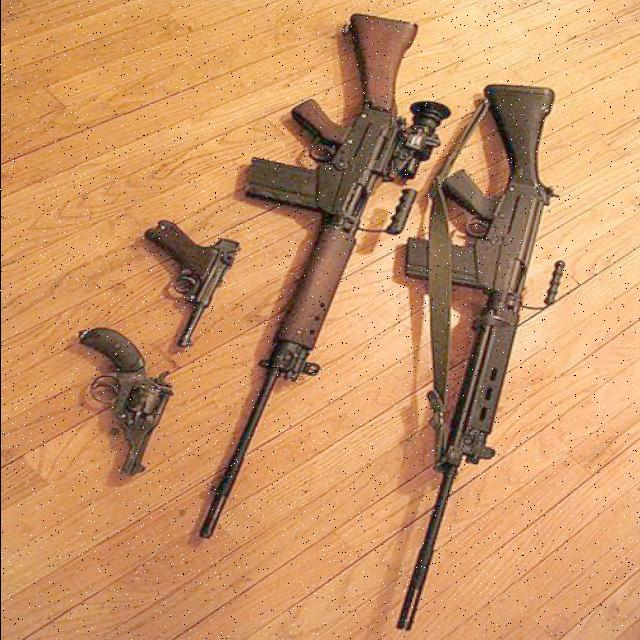Guns: (76, 327, 169, 475), (142, 219, 238, 346)
Rifle: (196, 13, 448, 539), (393, 85, 564, 631)
